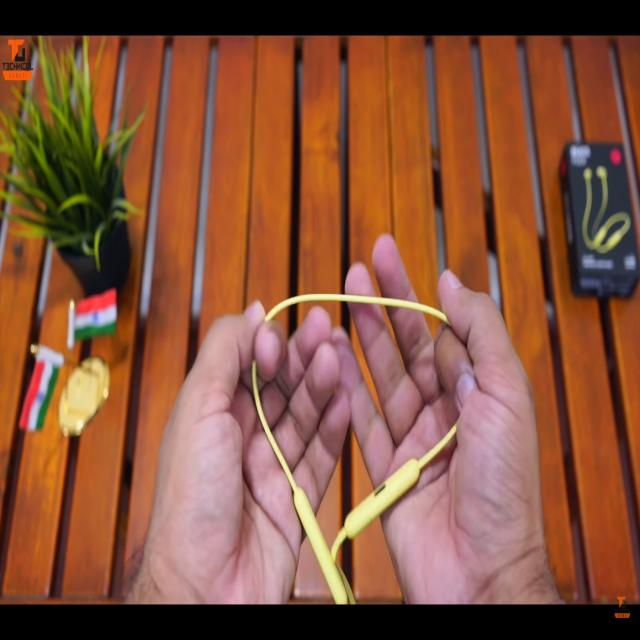Neckband: (250, 292, 470, 606)
